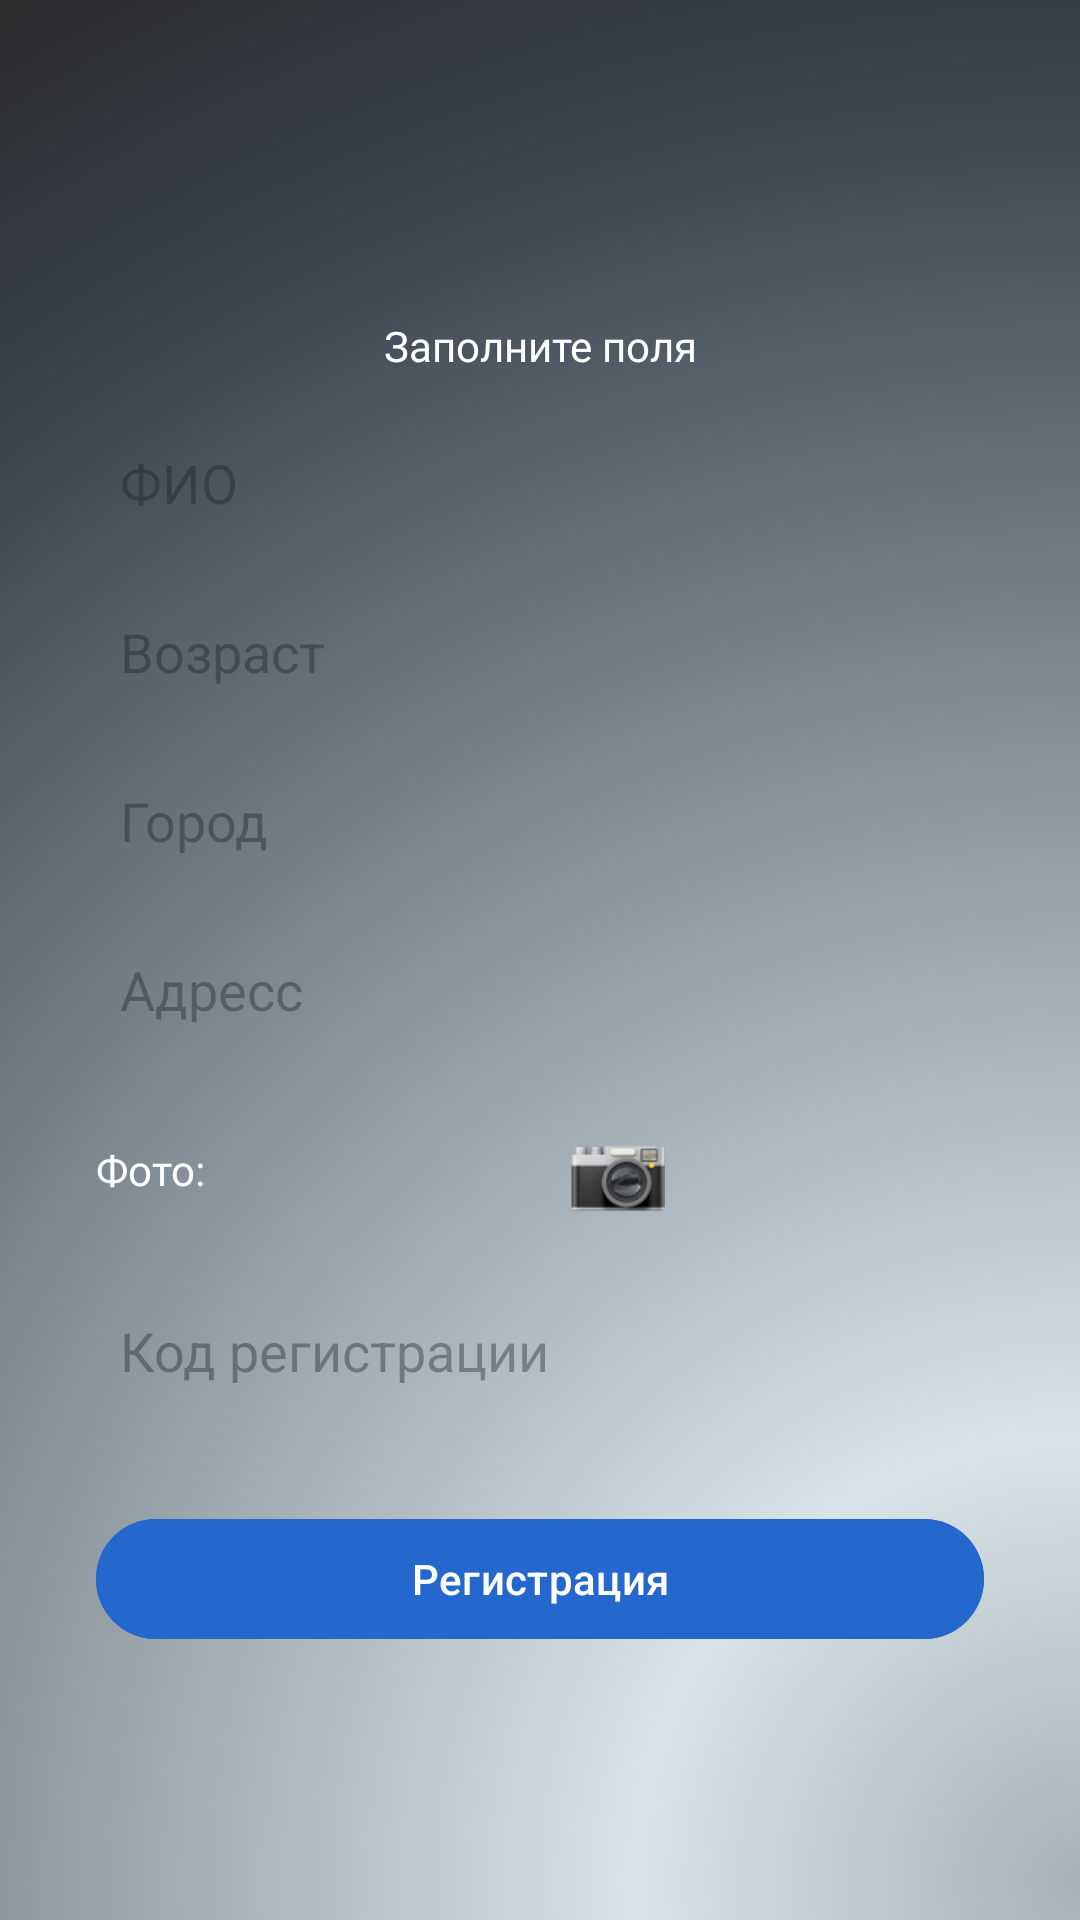

Locate icon controls on the screen. Image size 1080 × 1920, boxes as (x1, y1, x2, y2).
camera: (571, 1147, 665, 1211)
